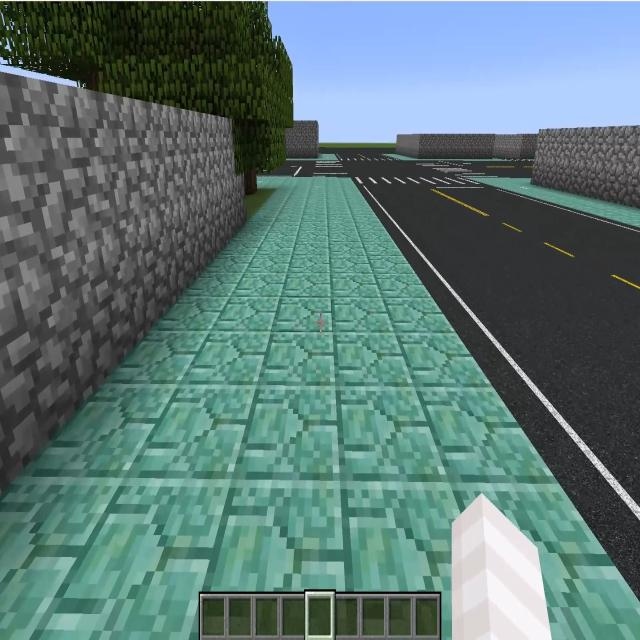crosswalk: (409, 162, 506, 177), (354, 177, 484, 185), (313, 161, 350, 177), (338, 159, 402, 161)
road: (357, 185, 640, 601), (425, 161, 533, 177), (343, 162, 454, 176), (319, 148, 396, 158), (274, 161, 316, 177)
sidewalk: (0, 178, 640, 639), (467, 177, 640, 227), (383, 154, 511, 160), (286, 154, 338, 160)
